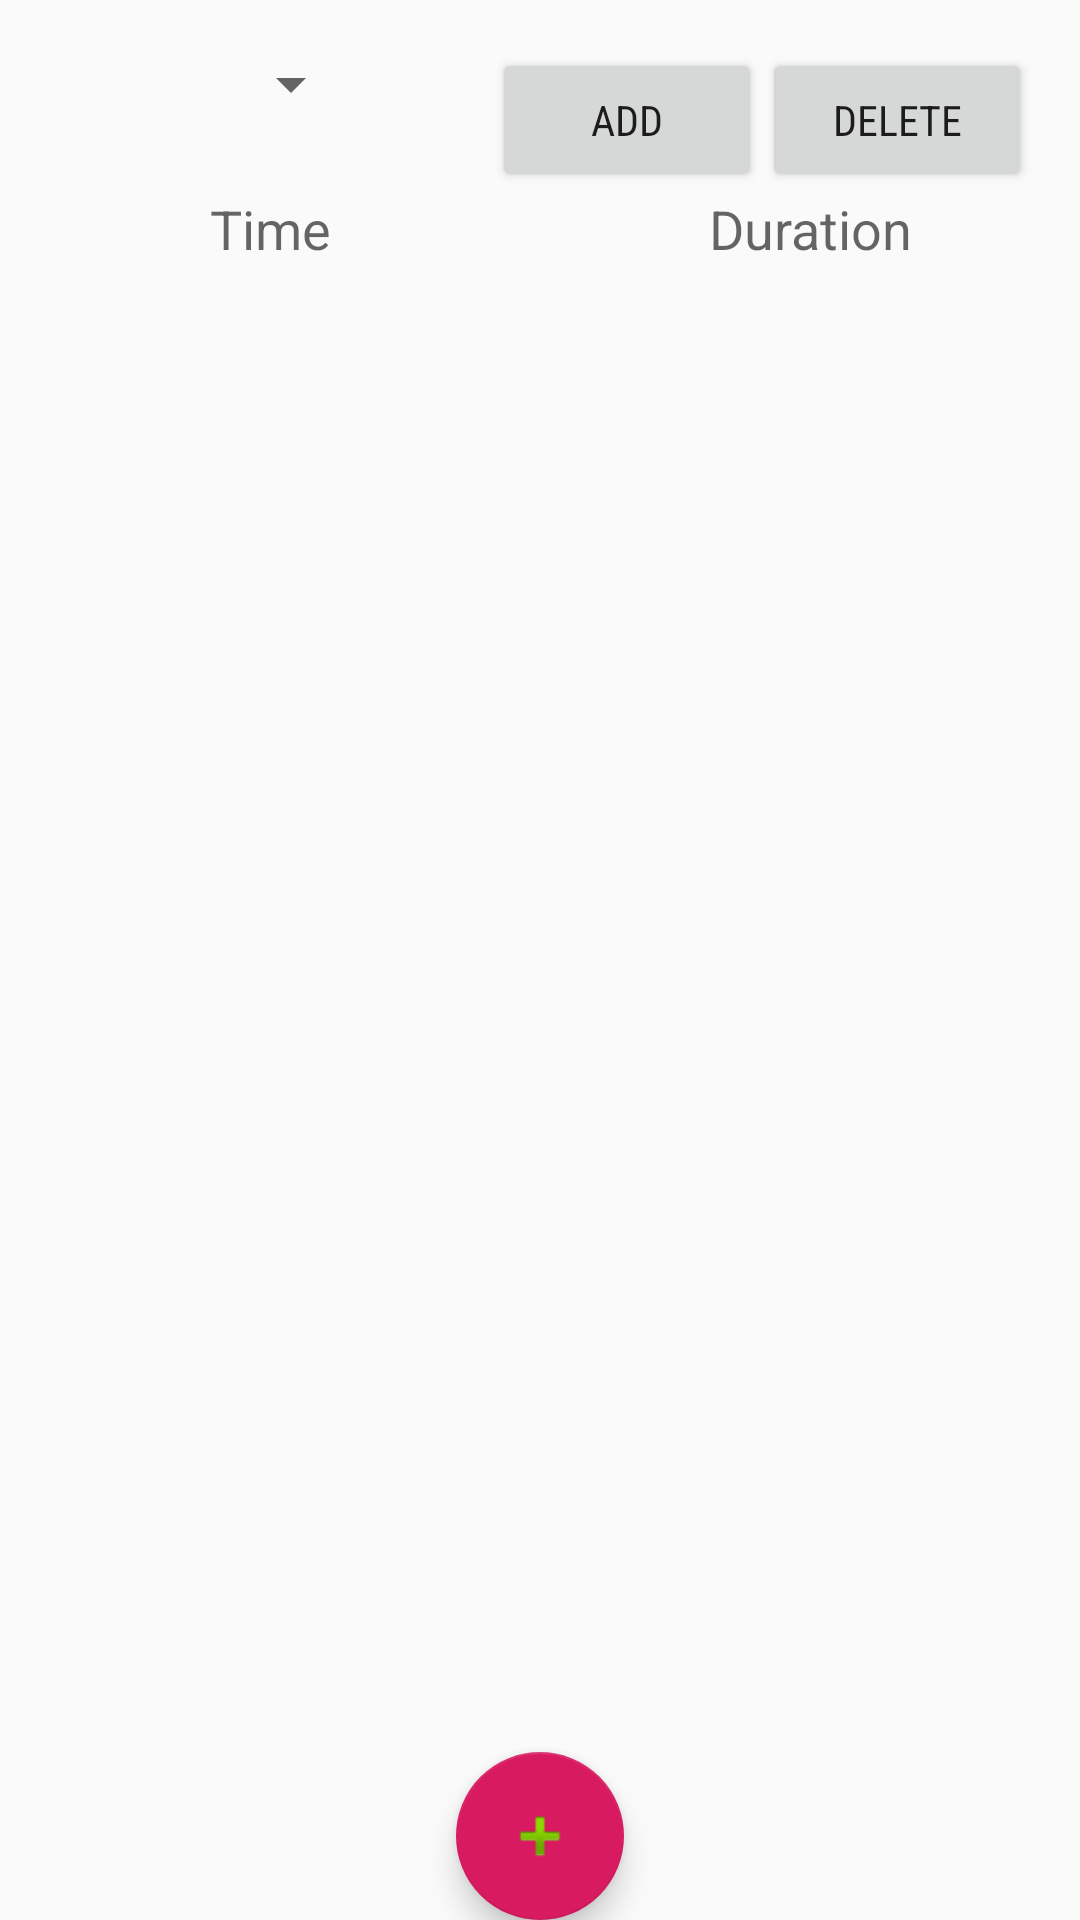

Icon click points for this 1080×1920 phone screenshot, format [x,y]:
add: [540,1836]
